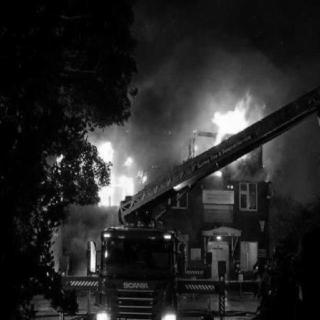Fire: (206, 97, 256, 181)
